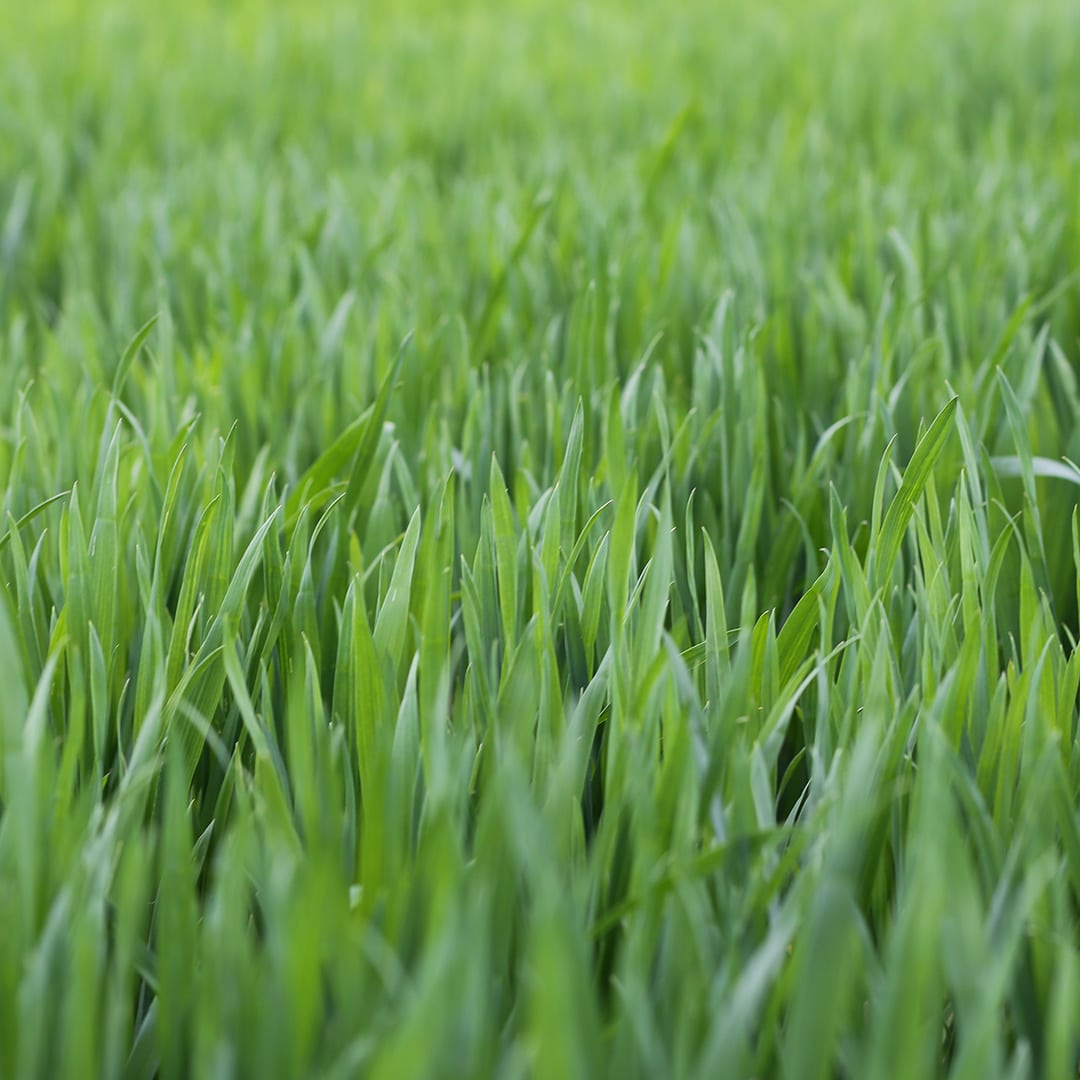grass: (5, 172, 1080, 1080)
